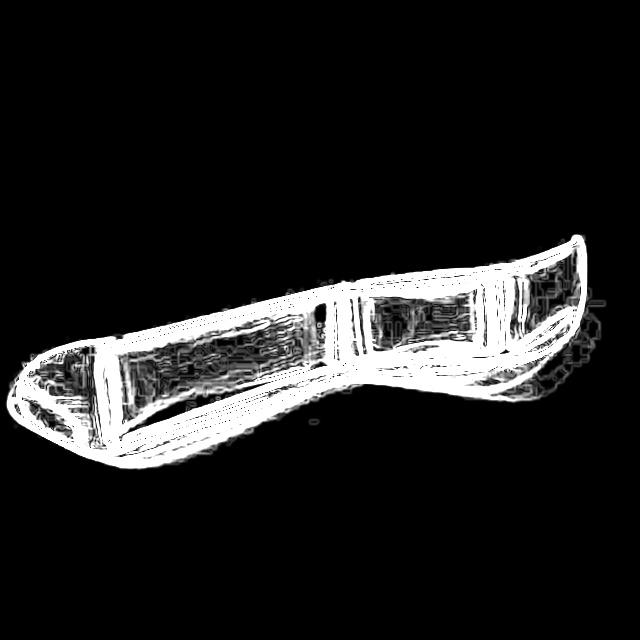separador: (7, 237, 586, 472)
